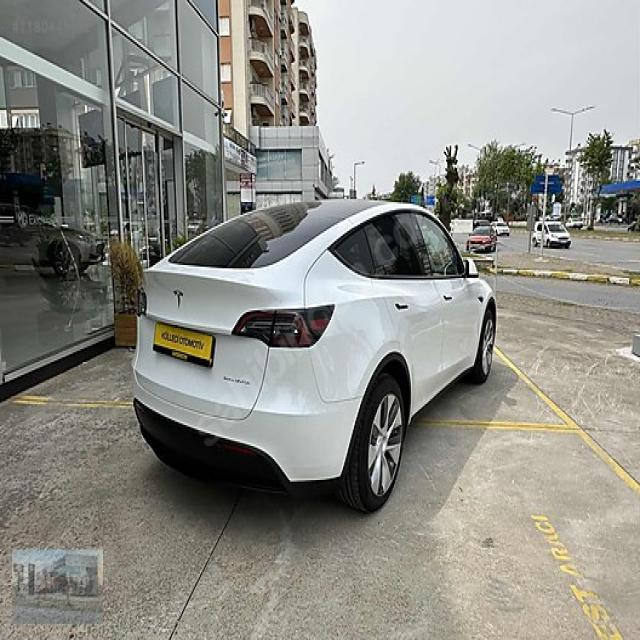tesla: (168, 281, 187, 314)
